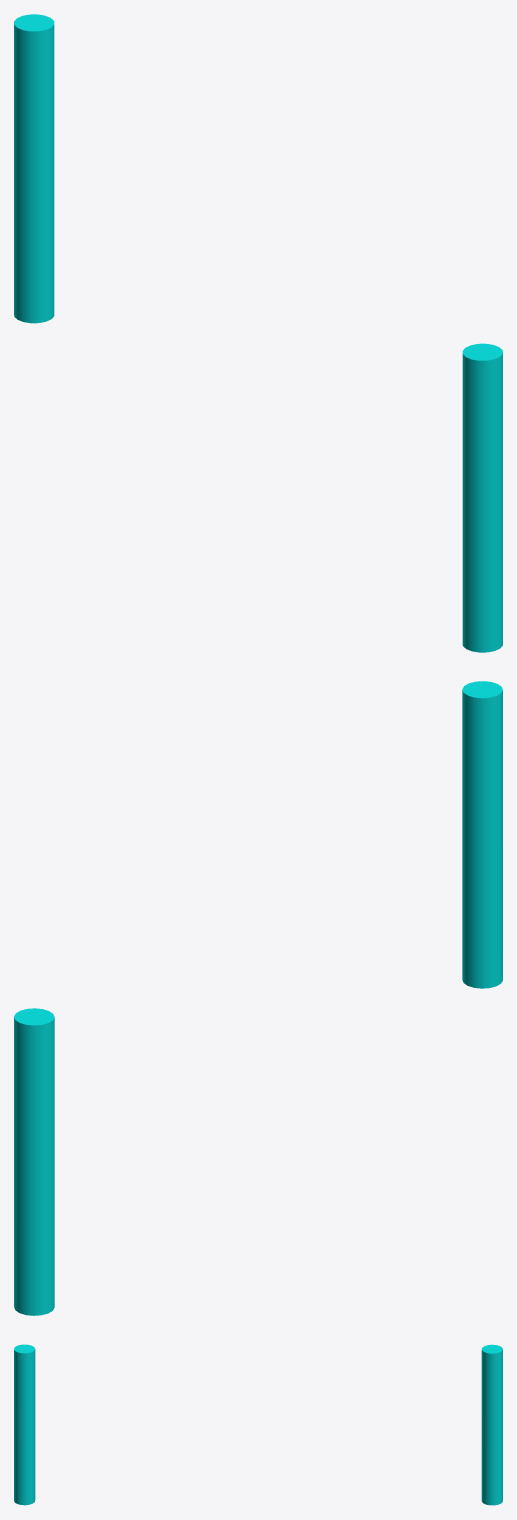
The model's file is Checkpoint_Poles.glb.
The picture shows the model from 3 angles, top to bottom: view 1: azimuth 30°, elevation 25°; view 2: azimuth 150°, elevation 25°; view 3: azimuth 270°, elevation 25°; orthographic projection. The views are drawn at different scales.
Visible parts, largest first — view 1: Cylinder; view 2: Cylinder; view 3: Cylinder.
Part boxes in pixels (x1,y1,x2,y2): Cylinder: (14, 14, 502, 652); Cylinder: (14, 681, 502, 1315); Cylinder: (14, 1344, 502, 1505).
Bounding box in the file's own units: 0.2905 × 2.24 × 6.53.
